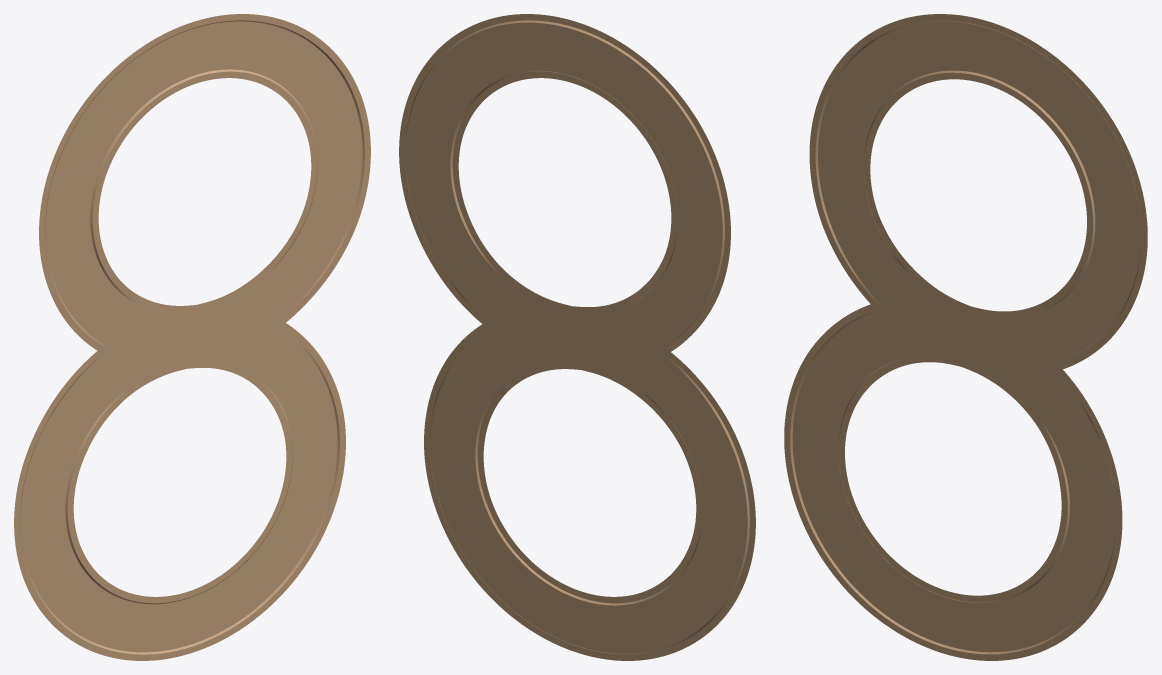
The model's file is Skidpad.obj.
3 renders of one model, left to right at view 1: azimuth 30°, elevation 25°; view 2: azimuth 150°, elevation 25°; view 3: azimuth 330°, elevation 25°, orthographic.
Visible parts, largest first — view 1: vroa_VF2019_Skidpad; view 2: vroa_VF2019_Skidpad; view 3: vroa_VF2019_Skidpad.
Part boxes in pixels (left/top/right/bottom): vroa_VF2019_Skidpad: left=14, top=14, right=370, bottom=660; vroa_VF2019_Skidpad: left=399, top=14, right=755, bottom=660; vroa_VF2019_Skidpad: left=784, top=14, right=1147, bottom=660.
Bounding box in the file's own units: 23.92 × 40.46 × 0.1.
